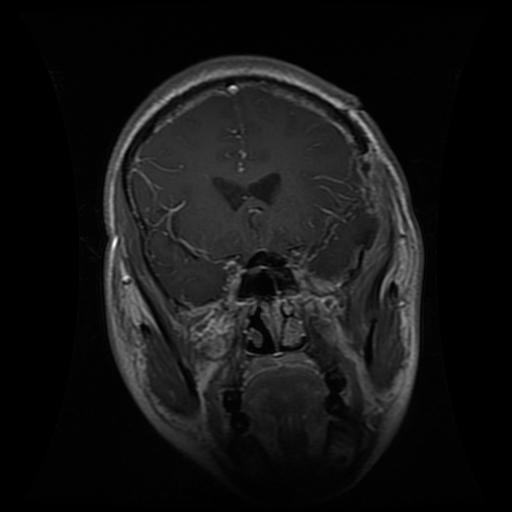Gliomia_tumour: (305, 189, 376, 277)
